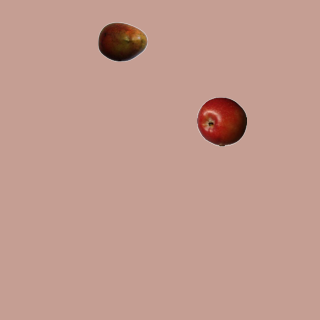Apple Braeburn: (196, 96, 246, 146)
Mango Red: (97, 16, 147, 66)
